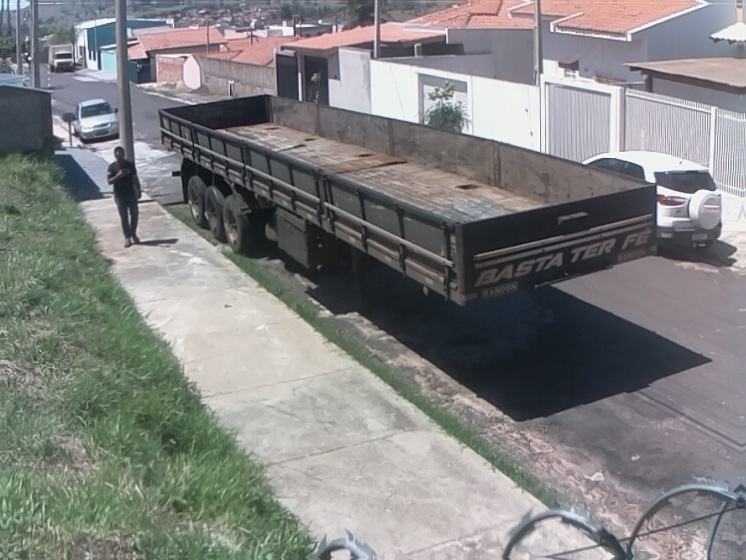person: (106, 145, 147, 249)
